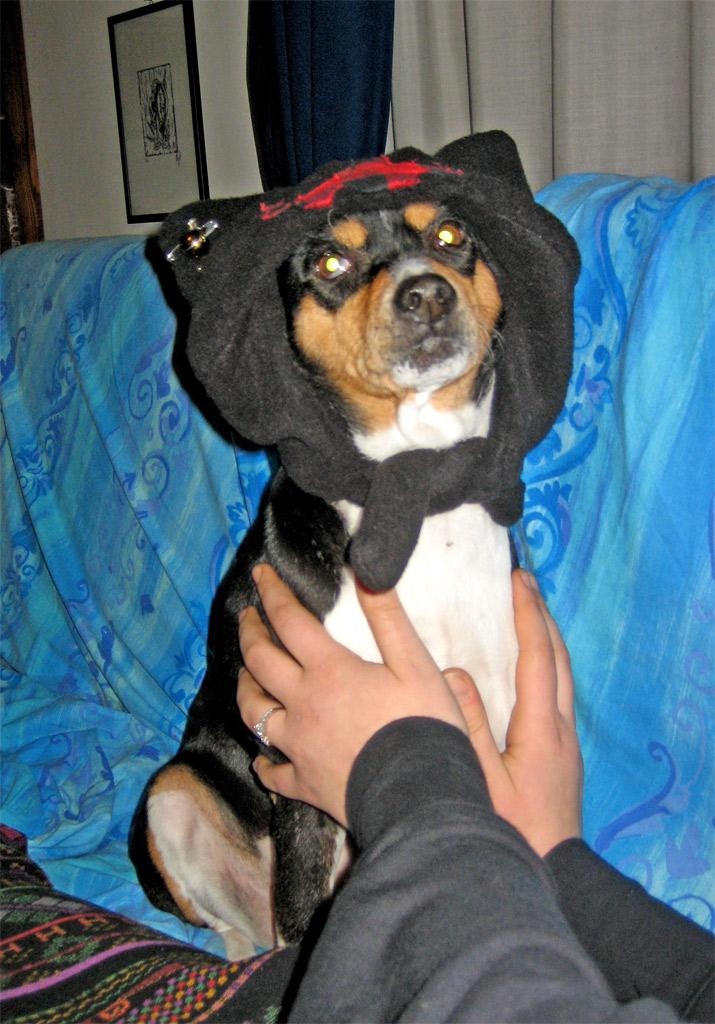Human_hand: (235, 561, 468, 834), (441, 566, 583, 857)
